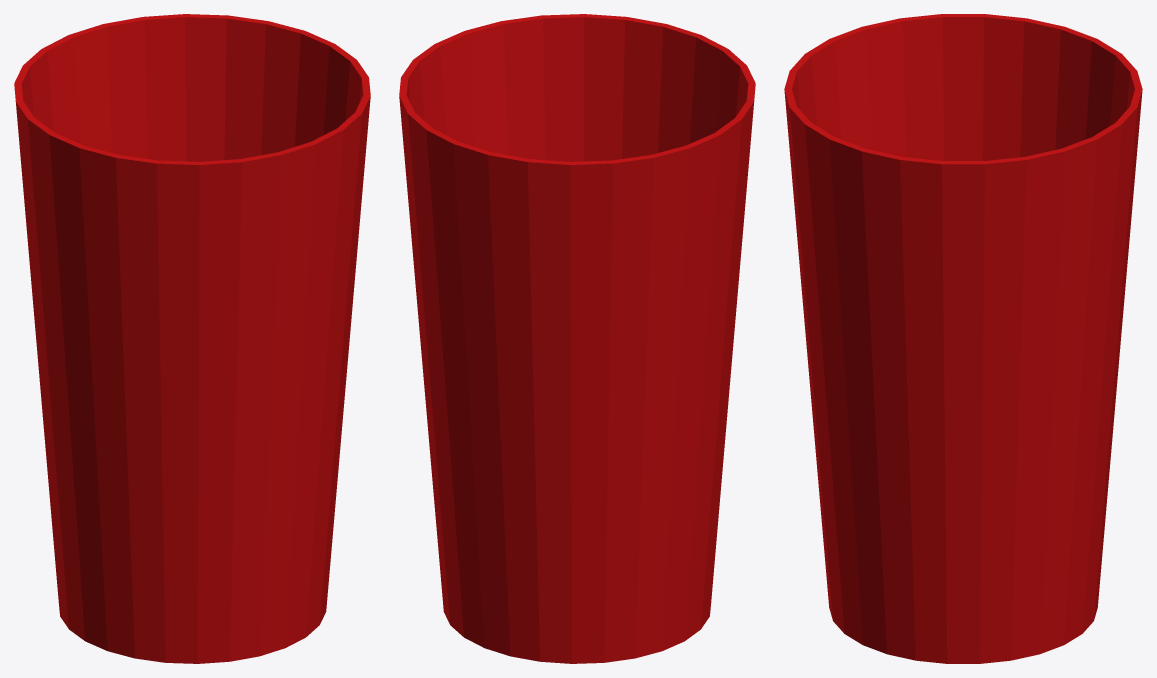
Rendered from cup_red.dae.
The picture shows the model from 3 angles, left to right: view 1: azimuth 30°, elevation 25°; view 2: azimuth 150°, elevation 25°; view 3: azimuth 270°, elevation 25°; orthographic projection.
Visible parts, largest first — view 1: node; view 2: node; view 3: node.
Part boxes in pixels (left/top/right/bottom): node: left=14, top=14, right=370, bottom=663; node: left=399, top=14, right=755, bottom=663; node: left=784, top=14, right=1142, bottom=663.
Bounding box in the file's own units: 0.0715 × 0.072 × 0.115.
